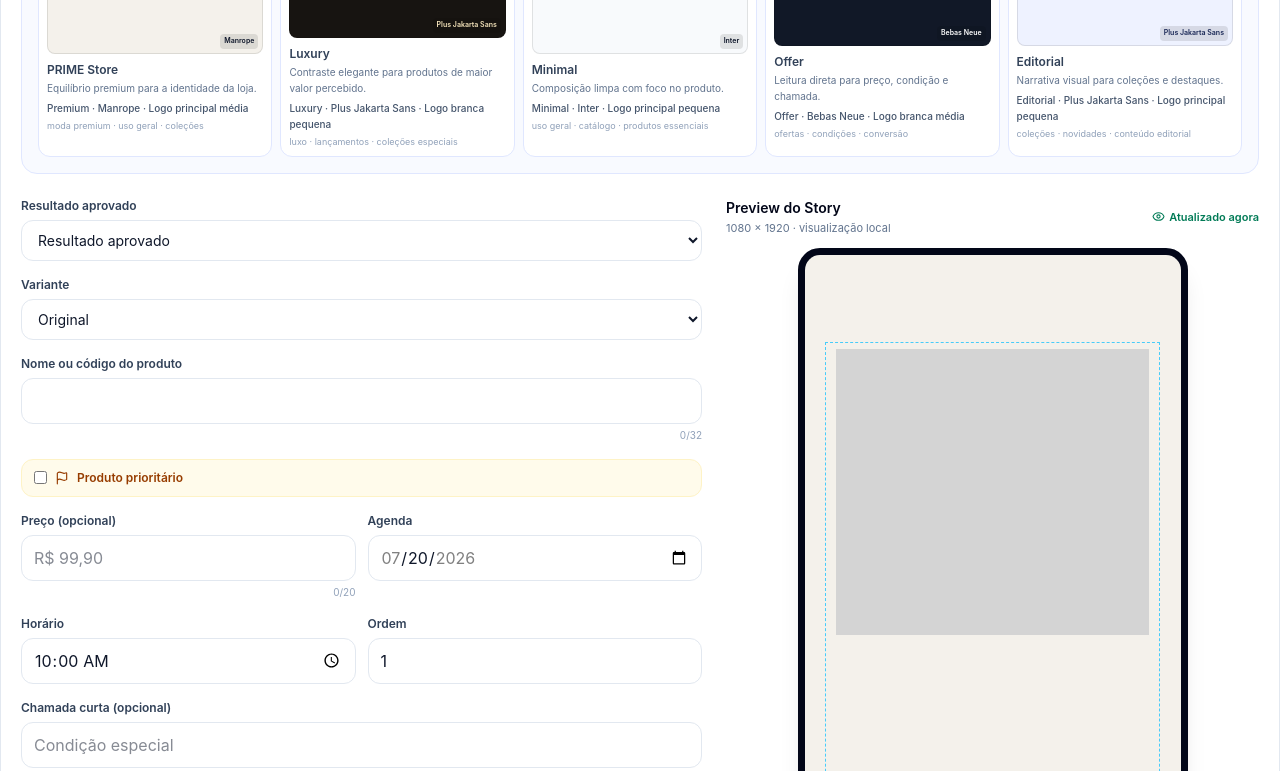
Scenario: StoryComposer › marks a recommendation stale after relevant data changes and supports cancellation
(page scrolled)
Type "Tênis Prime" into the field labelled "Nome ou código do produto" at (362, 401), box [21, 378, 702, 424]
(page scrolled)
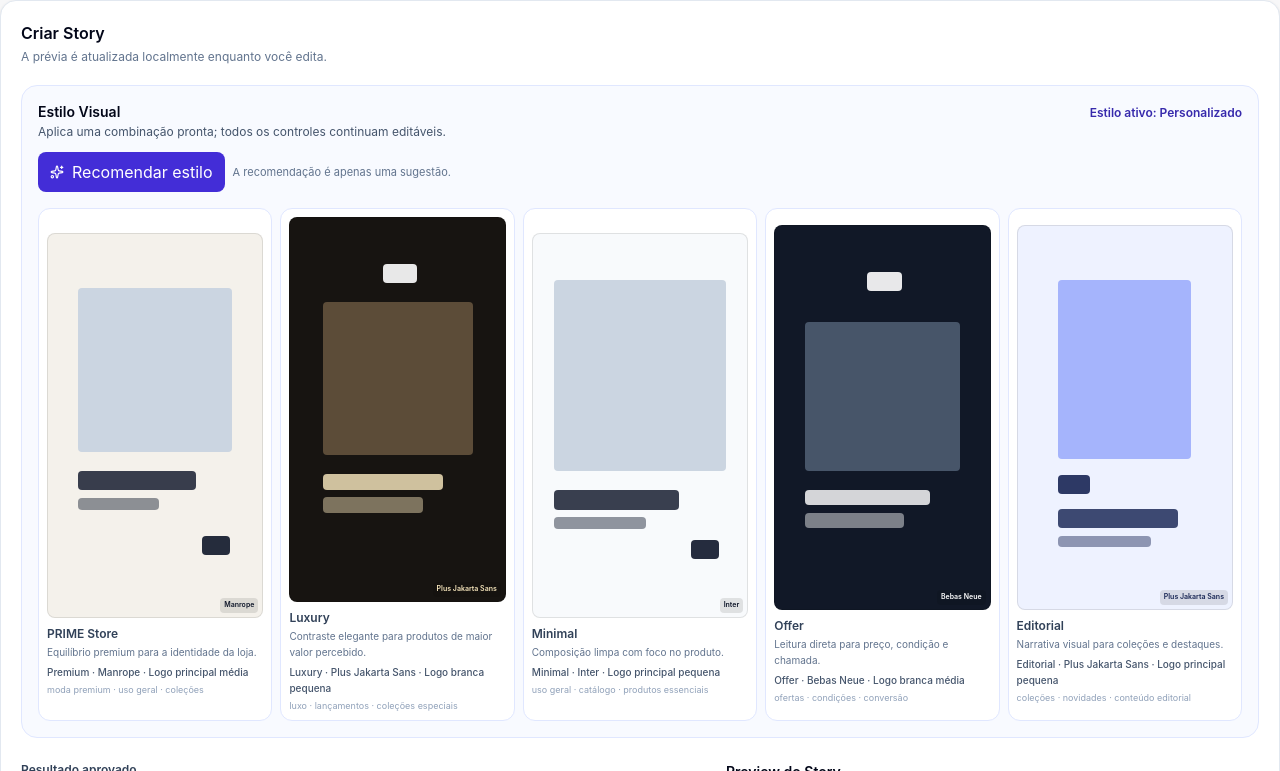
Click the button "Recomendar estilo" at (131, 172), box [38, 152, 225, 192]
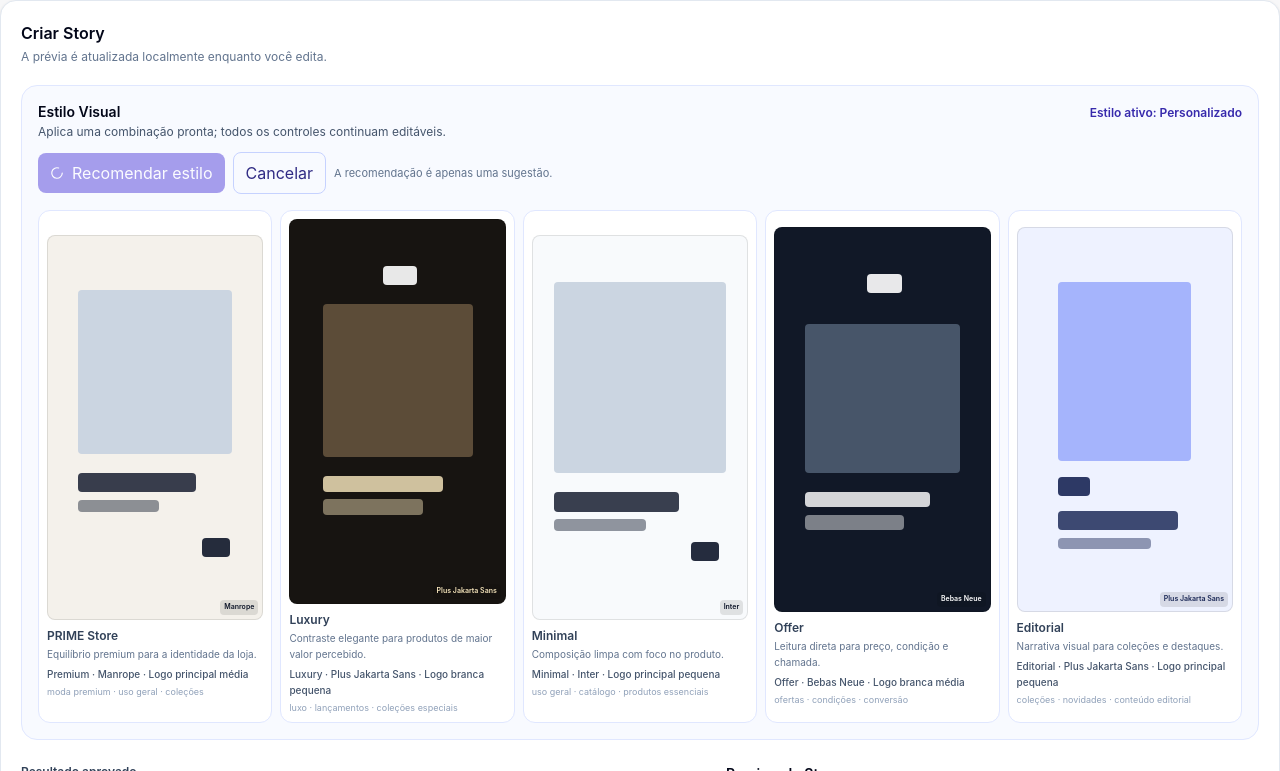
Now the button "Cancelar" is shown
Click the button "Cancelar" at (279, 173), box [233, 152, 326, 194]
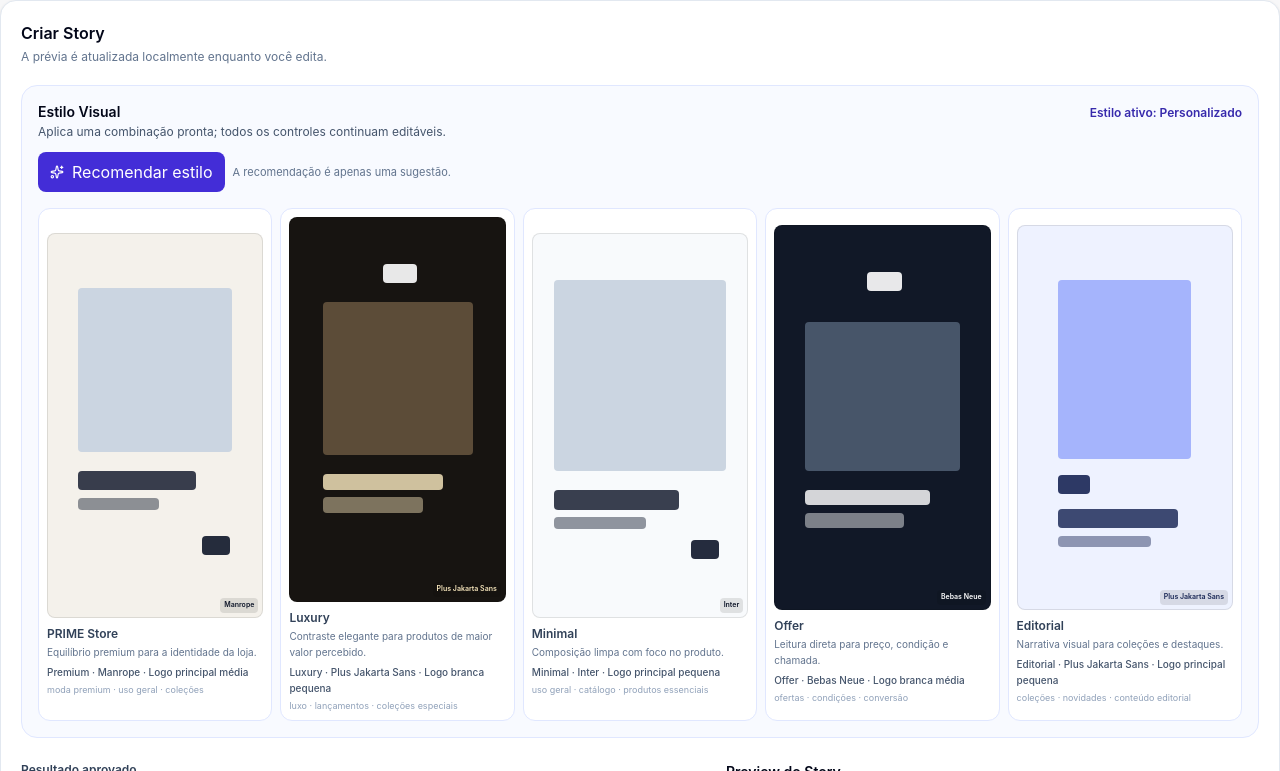
Now the button "Cancelar" is gone
Click the button "Recomendar estilo" at (131, 172), box [38, 152, 225, 192]
(page scrolled)
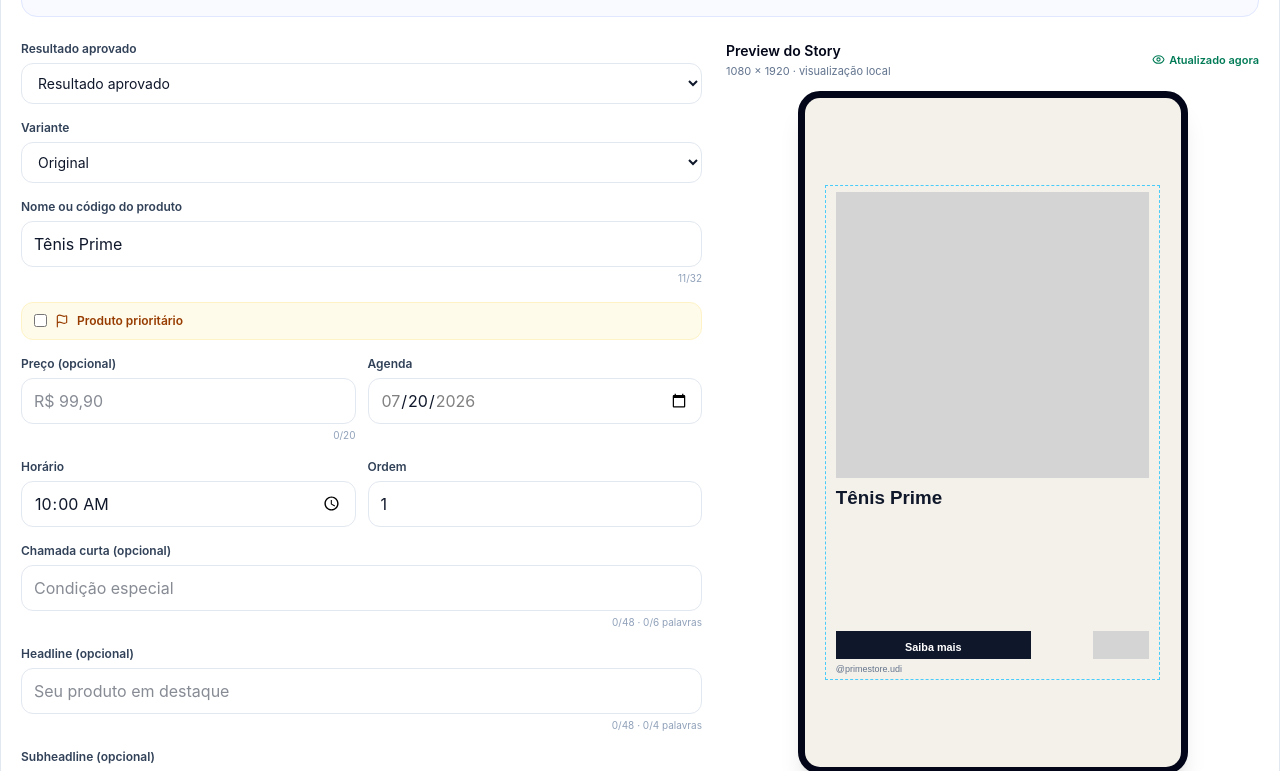
Type "R$ 499" into the field labelled "Preço (opcional)" at (188, 401), box [21, 378, 356, 424]
(page scrolled)
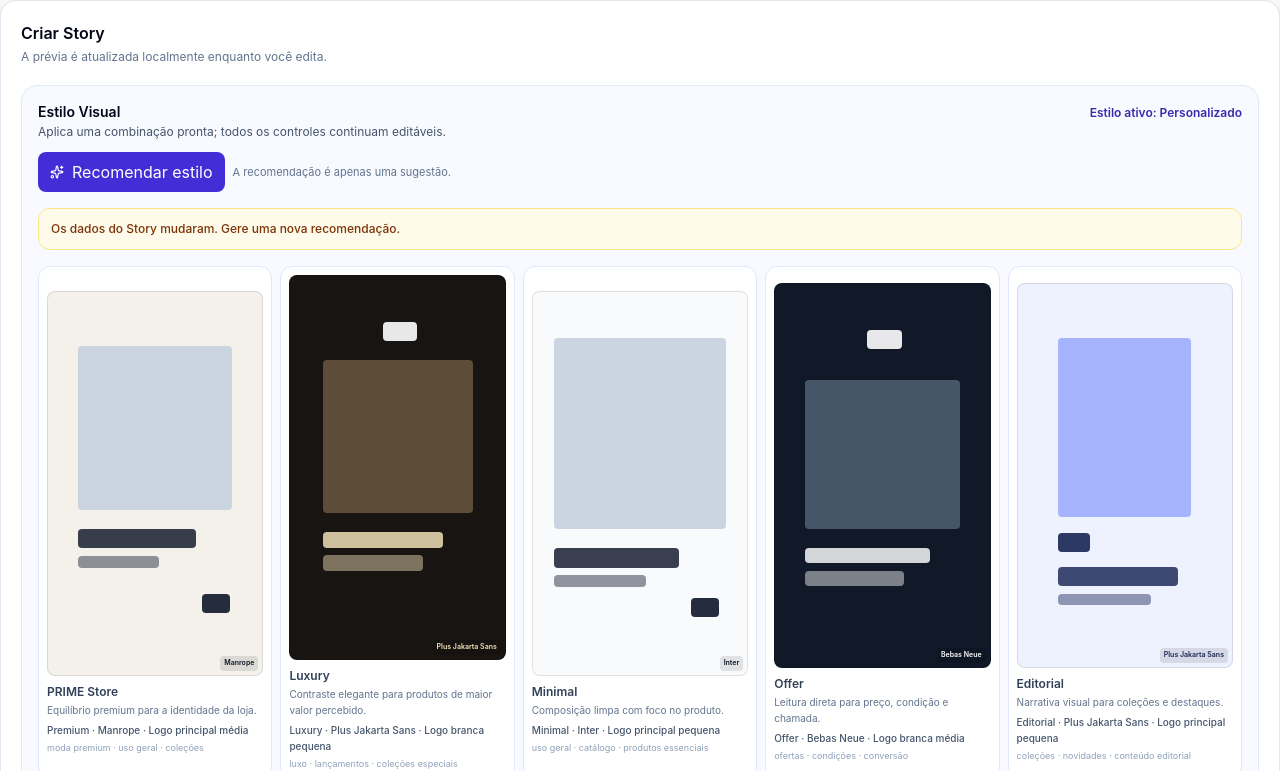
Now the text "Os dados do Story mudaram. Gere uma nova recomendação." is shown, box [51, 221, 400, 236]
